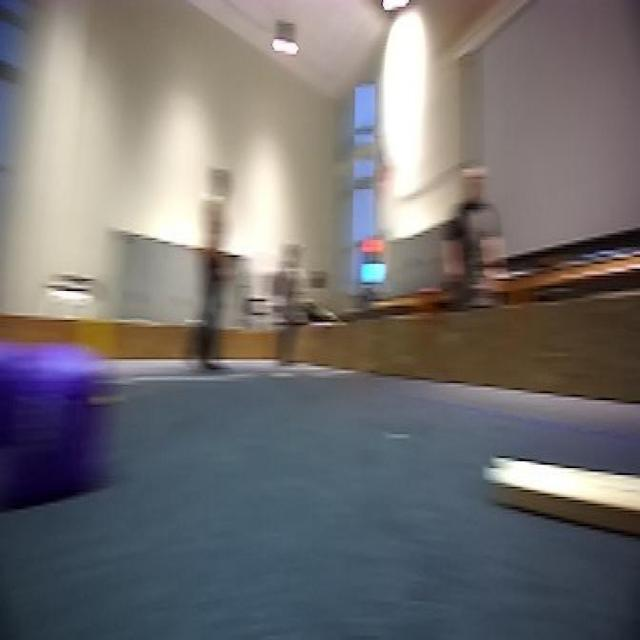frc_cube: (4, 366, 102, 528)
